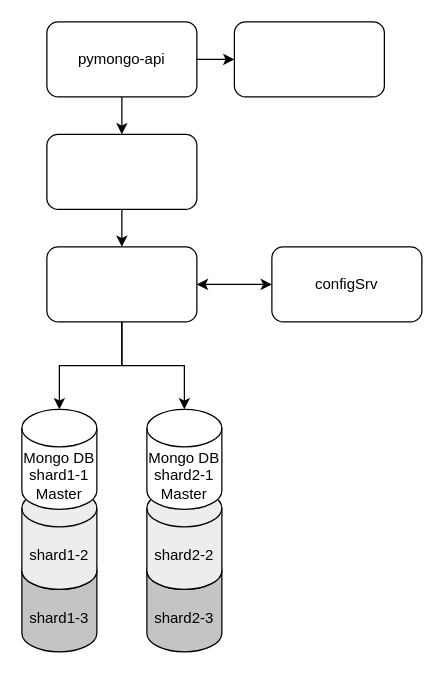
This 444x674 diagram has some shape labels left out. The box of each missing label's shape, as (x1, y1, x2, y2) in pixels:
driver: (46, 133, 197, 209)
redis: (233, 21, 384, 97)
router: (46, 246, 197, 322)
